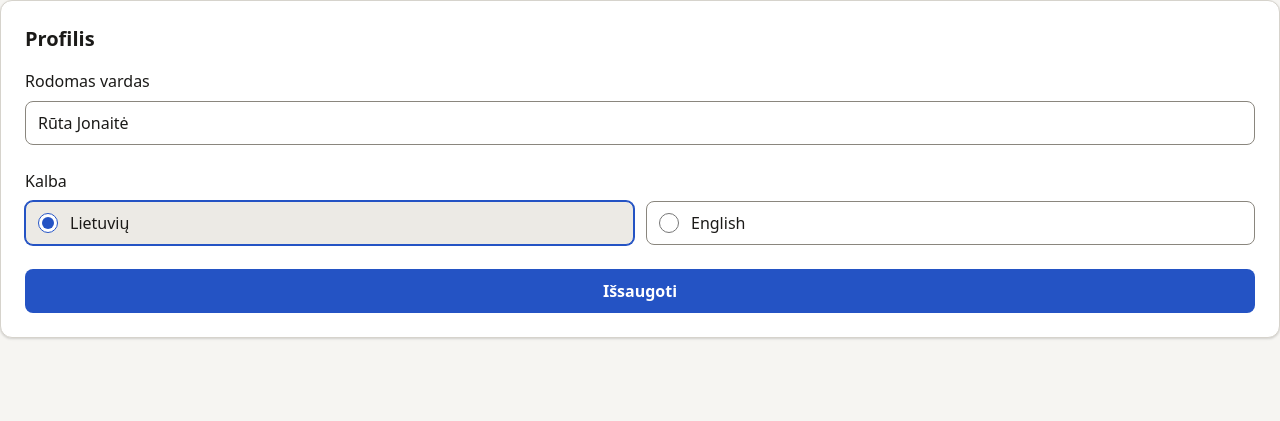
Test: ProfileForm › does not mark the name field for a language refusal
This screenshot has width=1280, height=421.
Step 1. Click the button "Išsaugoti" → [640, 291], box [25,269,1255,313]
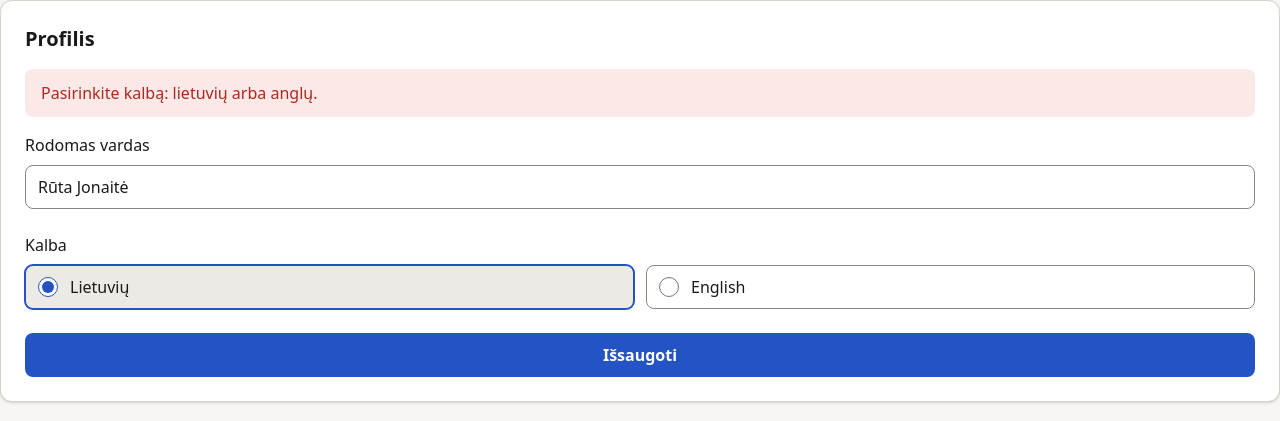
Expected: the message reads "Pasirinkite kalbą: lietuvių arba anglų.", [41,82,317,104]
